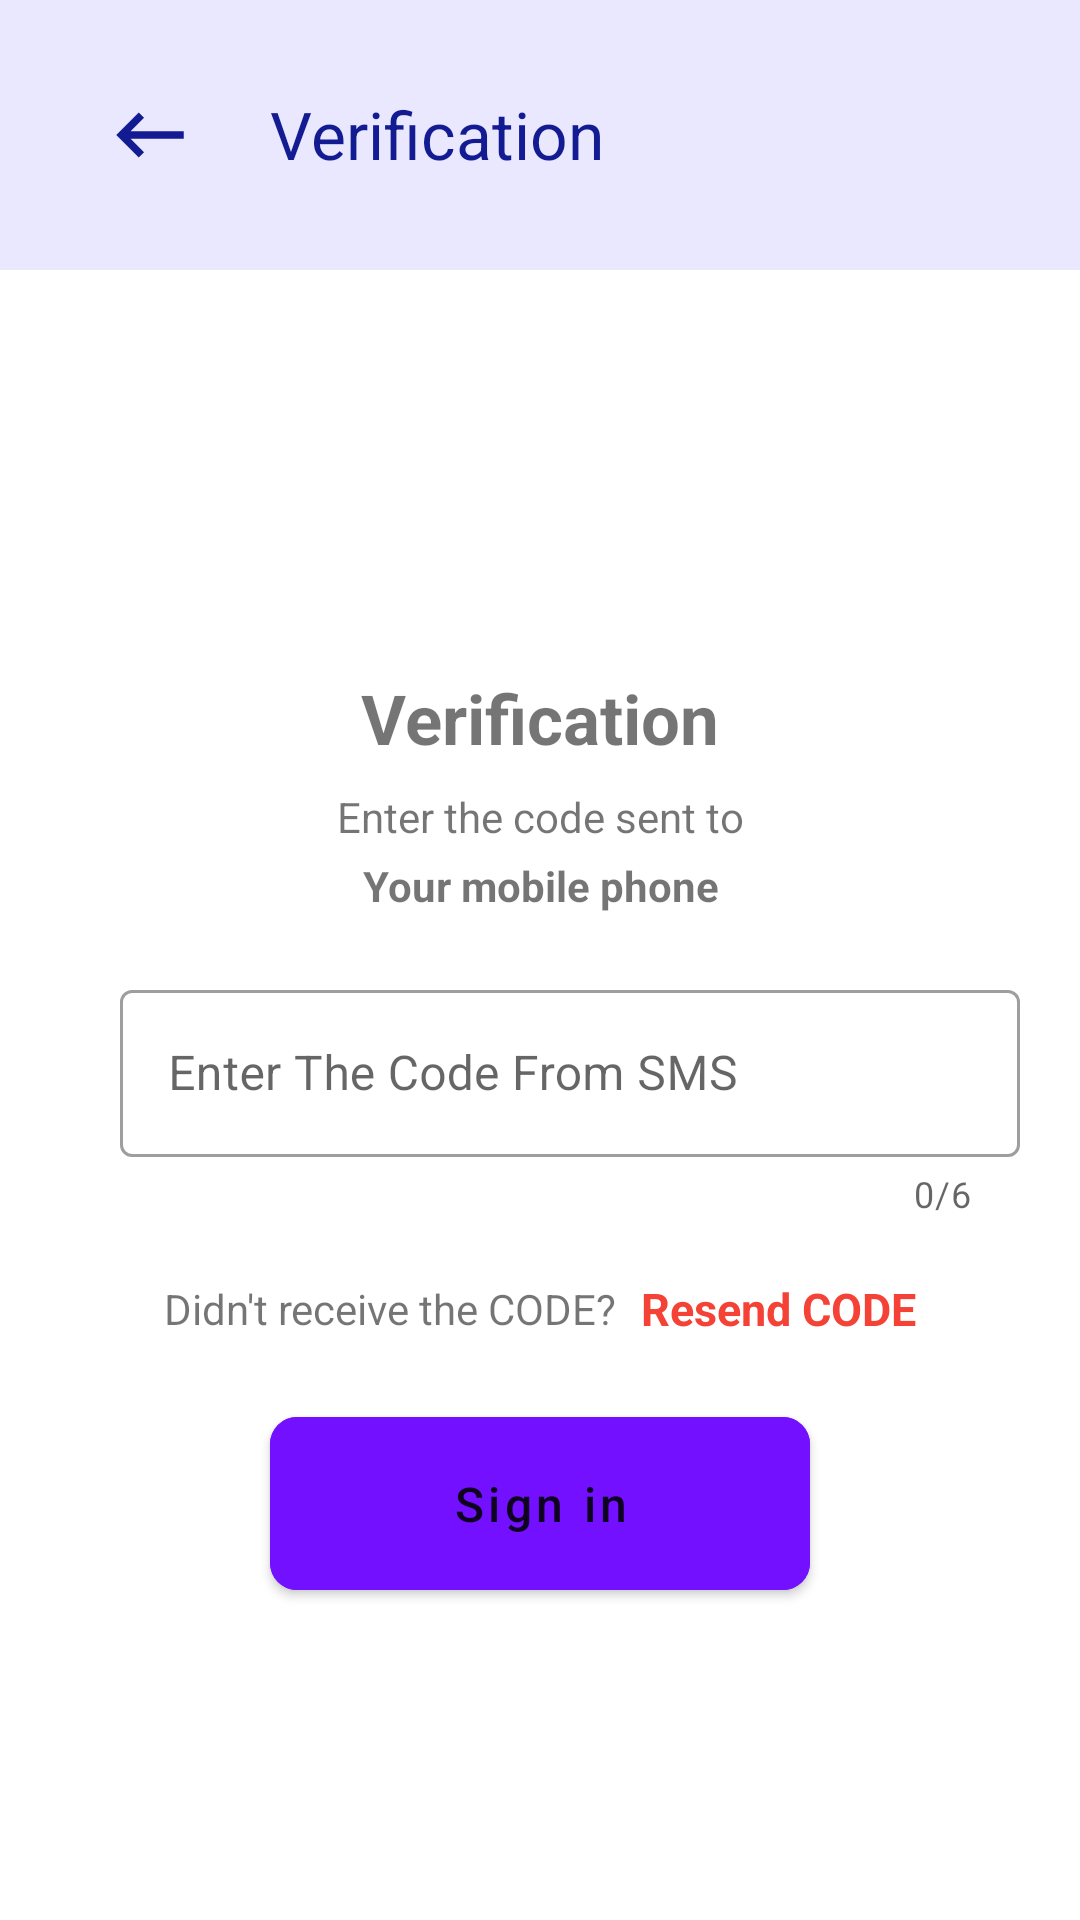

Icon click points for this 1080 × 1920 phone screenshot, format [x,y]:
back: [150,135]
